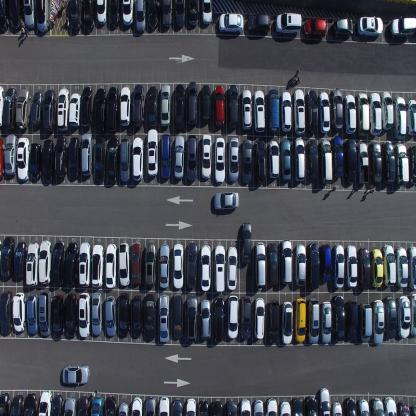car: (0, 235, 16, 279), (381, 140, 396, 185), (106, 86, 120, 134), (106, 134, 120, 182), (38, 288, 52, 336), (16, 86, 31, 130), (64, 292, 78, 339), (394, 143, 410, 183), (61, 362, 90, 384), (65, 241, 79, 286), (3, 86, 17, 131), (38, 239, 52, 284), (186, 133, 199, 181), (397, 295, 411, 339), (356, 92, 370, 136), (25, 241, 39, 285), (186, 296, 199, 343), (393, 96, 407, 139), (368, 91, 382, 134), (54, 135, 68, 178), (358, 303, 373, 343), (372, 299, 385, 345), (294, 297, 307, 343), (78, 292, 91, 338), (306, 88, 319, 134), (320, 138, 333, 184), (0, 290, 13, 336), (275, 12, 302, 34), (389, 16, 416, 38), (12, 291, 26, 333), (358, 246, 371, 291), (52, 240, 65, 285), (81, 131, 94, 176), (17, 136, 30, 181), (308, 242, 320, 290), (334, 294, 346, 342), (186, 242, 198, 290), (78, 240, 90, 288), (214, 136, 226, 184), (146, 129, 158, 177), (94, 135, 106, 183), (395, 247, 409, 288), (384, 296, 397, 340), (383, 244, 396, 288), (332, 244, 345, 288), (320, 300, 333, 344), (131, 294, 144, 338), (42, 138, 55, 182), (307, 297, 319, 344), (105, 241, 117, 288), (120, 136, 132, 183), (356, 16, 384, 36), (43, 89, 56, 132), (4, 133, 17, 176), (280, 238, 292, 284), (227, 294, 239, 340), (226, 245, 238, 291), (212, 297, 224, 343), (144, 241, 156, 287), (118, 292, 130, 338), (53, 294, 65, 340), (345, 138, 357, 184), (268, 88, 280, 134), (228, 136, 240, 182), (57, 86, 69, 132), (219, 12, 244, 34), (318, 91, 331, 133), (80, 86, 93, 128), (346, 244, 358, 289), (91, 291, 103, 336), (132, 136, 144, 181), (214, 244, 225, 293), (159, 294, 170, 343), (145, 292, 156, 341), (248, 12, 271, 35), (346, 298, 358, 342), (281, 300, 293, 344), (268, 299, 280, 343), (200, 244, 211, 292), (130, 242, 142, 286), (118, 242, 130, 286), (92, 243, 104, 287), (174, 82, 185, 130), (160, 134, 172, 178), (95, 86, 106, 134), (303, 18, 327, 40), (371, 248, 384, 288), (381, 90, 394, 130), (213, 190, 239, 210), (255, 243, 266, 290), (173, 243, 184, 290), (294, 88, 305, 135), (266, 242, 278, 285), (370, 141, 382, 184), (357, 142, 369, 185), (132, 84, 144, 127), (240, 294, 251, 340), (242, 137, 253, 183), (105, 294, 117, 336), (331, 87, 343, 129), (68, 92, 82, 128), (30, 91, 44, 127), (26, 292, 38, 334), (294, 137, 305, 182), (255, 138, 266, 183), (227, 84, 238, 129), (187, 80, 198, 125), (174, 134, 185, 179), (14, 240, 27, 278), (295, 243, 306, 287), (159, 243, 170, 287), (332, 134, 343, 178), (254, 89, 265, 133), (214, 83, 225, 127), (160, 83, 171, 127), (241, 220, 252, 264), (344, 94, 356, 134), (268, 139, 280, 179), (254, 297, 265, 339), (200, 298, 211, 340), (307, 138, 318, 180), (281, 90, 292, 132), (82, 0, 96, 33), (36, 0, 50, 33), (173, 293, 183, 339), (202, 134, 212, 180), (30, 142, 42, 180), (148, 84, 158, 129), (22, 0, 37, 30), (242, 87, 252, 131), (70, 136, 80, 179), (321, 243, 332, 282), (120, 86, 130, 128), (281, 139, 291, 180), (9, 0, 23, 29), (69, 0, 82, 31), (201, 84, 211, 124), (334, 17, 354, 36), (108, 0, 121, 29), (147, 0, 159, 31), (318, 387, 331, 415), (121, 0, 134, 28), (135, 0, 146, 33), (408, 245, 416, 290), (406, 100, 416, 136), (187, 0, 200, 27), (38, 390, 52, 415), (23, 391, 37, 416), (161, 0, 173, 29), (0, 0, 11, 31), (9, 394, 24, 416), (408, 145, 416, 184), (201, 0, 213, 26), (175, 0, 186, 28), (96, 0, 107, 27), (51, 394, 64, 416), (410, 292, 416, 338), (370, 397, 385, 415), (90, 396, 104, 415), (64, 396, 78, 415), (145, 394, 157, 416), (104, 395, 117, 415), (0, 391, 10, 416), (384, 396, 397, 415), (345, 396, 358, 415), (78, 395, 90, 415), (357, 398, 370, 416), (131, 396, 143, 415), (266, 397, 278, 415), (211, 398, 223, 416), (306, 396, 317, 415), (159, 396, 170, 415), (225, 400, 238, 416), (292, 397, 303, 415), (253, 398, 264, 416), (240, 397, 251, 415), (186, 396, 196, 415), (0, 136, 4, 182), (199, 398, 209, 416), (0, 84, 4, 129), (172, 400, 183, 416), (398, 402, 410, 416), (118, 402, 130, 416), (331, 402, 342, 416), (280, 401, 291, 415), (410, 404, 416, 415)
